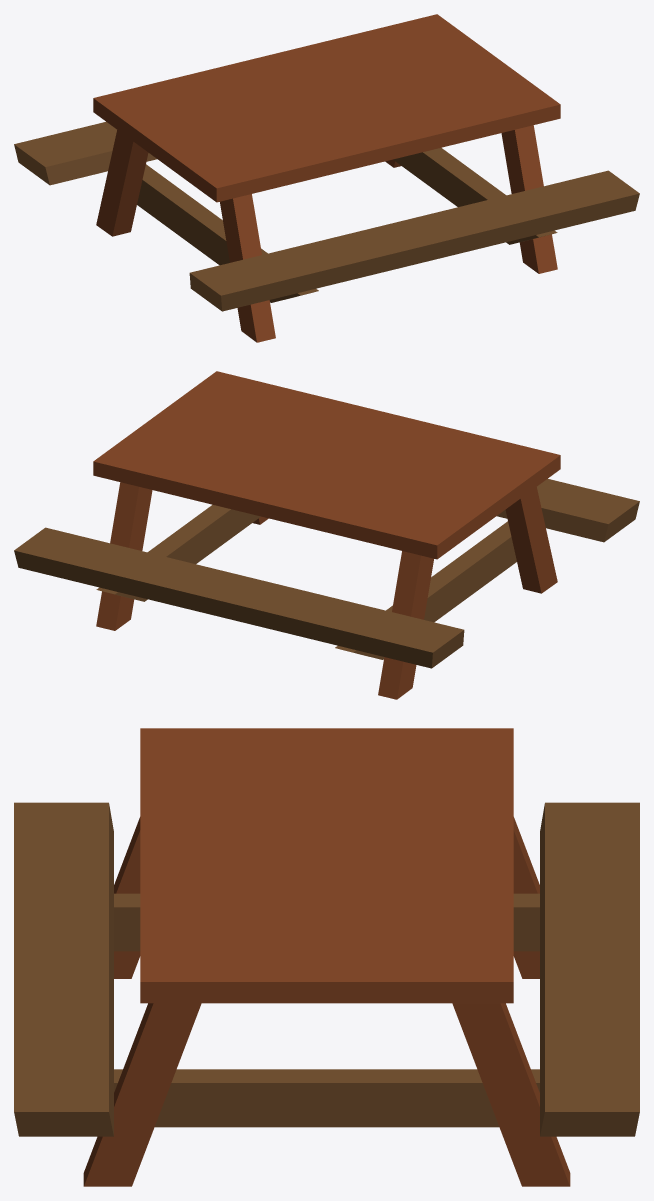
Rendered from mesapicnic 1.fbx.
The picture shows the model from 3 angles, top to bottom: view 1: azimuth 30°, elevation 25°; view 2: azimuth 150°, elevation 25°; view 3: azimuth 270°, elevation 25°; orthographic projection. The views are drawn at different scales.
Parts seen in each view (by area): view 1: Cube; view 2: Cube; view 3: Cube.
Boxes of the visible parts, x1,y1,x2,y2 form: Cube: [14, 14, 639, 342]; Cube: [14, 371, 639, 699]; Cube: [14, 728, 639, 1186].
Size of the model in its own units: 1354 by 451 by 1159.
